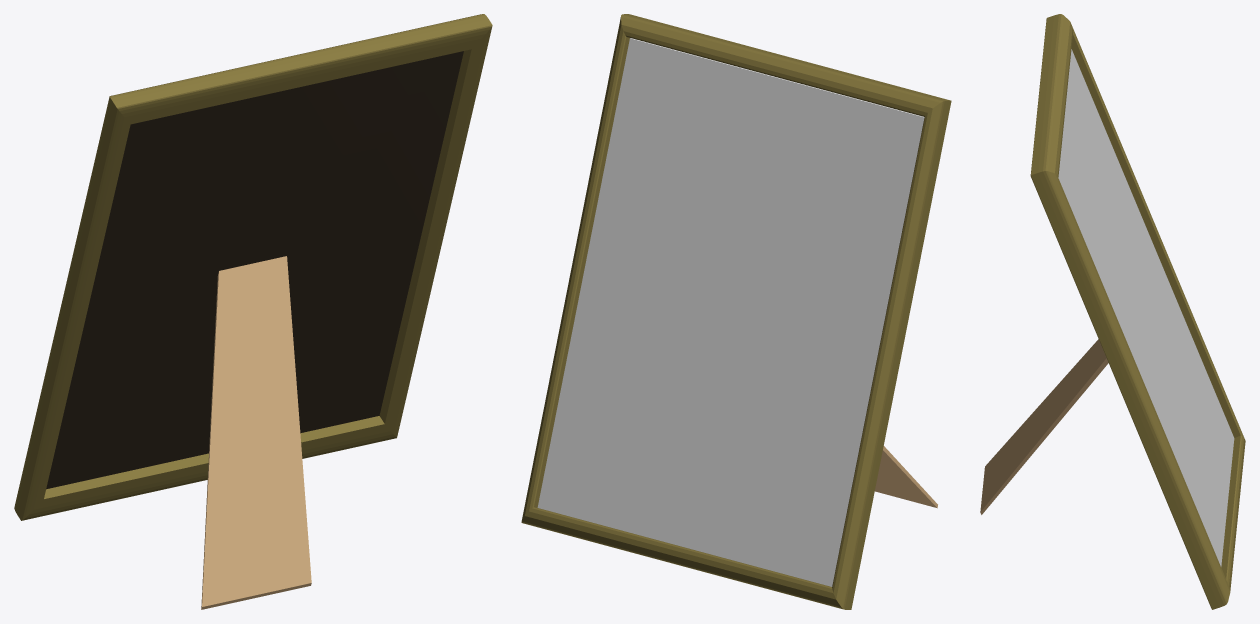
File: image_frame.glb
3 views of the same model, side by side, from view 1: azimuth 30°, elevation 25°; view 2: azimuth 150°, elevation 25°; view 3: azimuth 270°, elevation 25° (orthographic). The views are drawn at different scales.
Parts seen in each view (by area): view 1: image frame; view 2: image, image frame; view 3: image frame, image.
Boxes of the visible parts, bbox=[...] form: image frame: bbox=[14, 14, 492, 609]; image: bbox=[537, 38, 924, 586]; image frame: bbox=[521, 14, 951, 609]; image frame: bbox=[980, 14, 1245, 609]; image: bbox=[1058, 49, 1234, 566].
Bounding box in the file's own units: 0.2195 × 0.2773 × 0.153.
